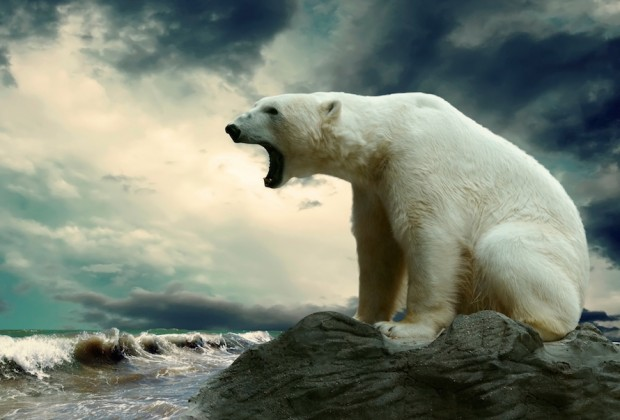Polar Bear: (195, 43, 620, 350)
